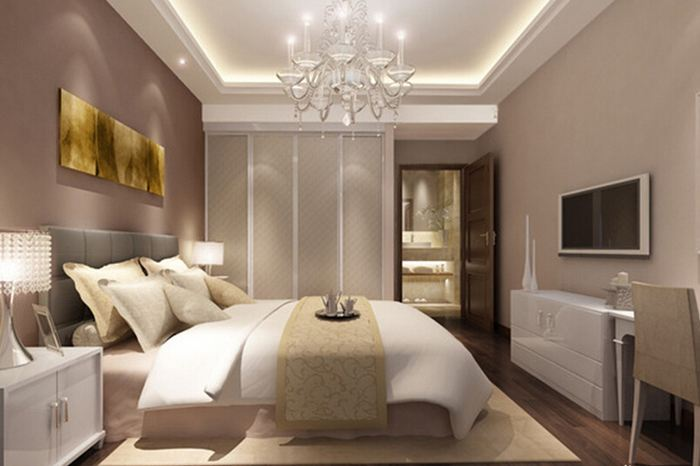床: (75, 297, 488, 440)
枕头: (69, 254, 247, 347)
灯: (277, 7, 417, 132), (0, 228, 48, 366), (174, 239, 225, 275)
